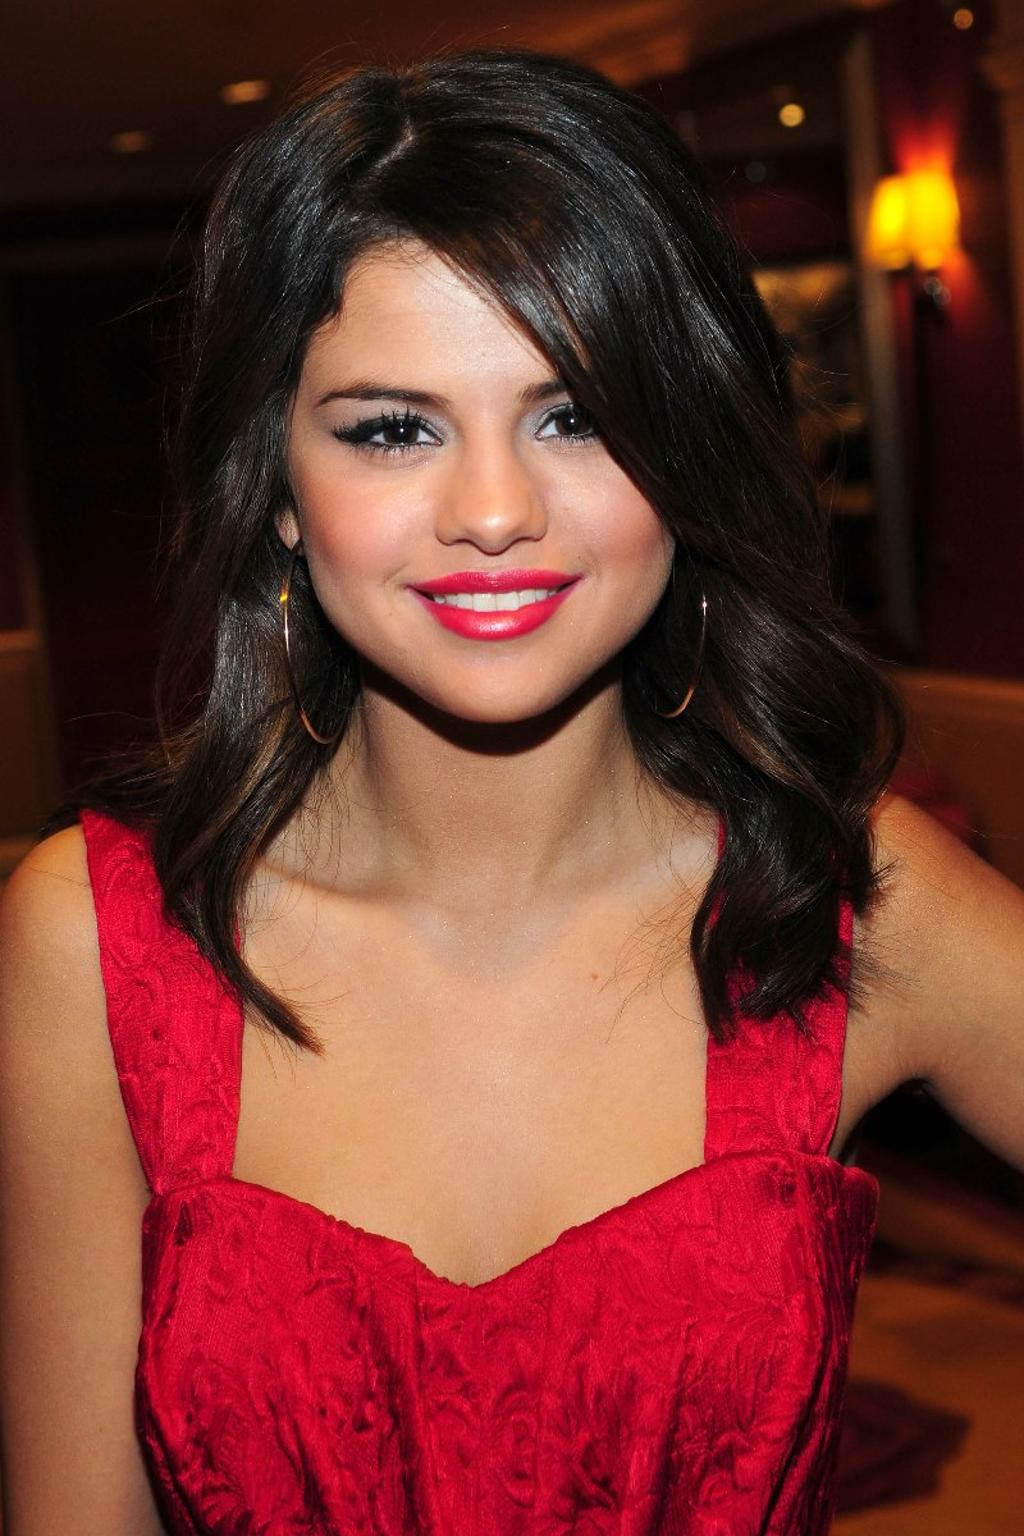face: (283, 217, 688, 724)
